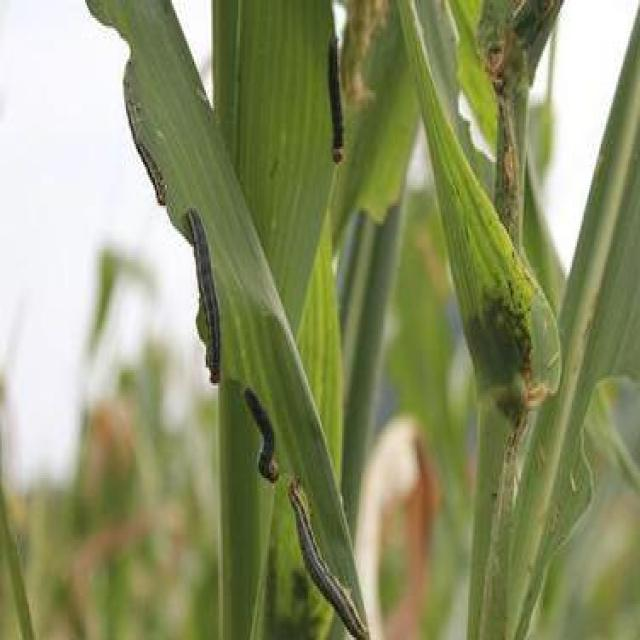pest: (289, 475, 370, 639), (192, 204, 225, 386), (127, 61, 166, 205), (328, 35, 351, 167), (246, 391, 278, 482)
